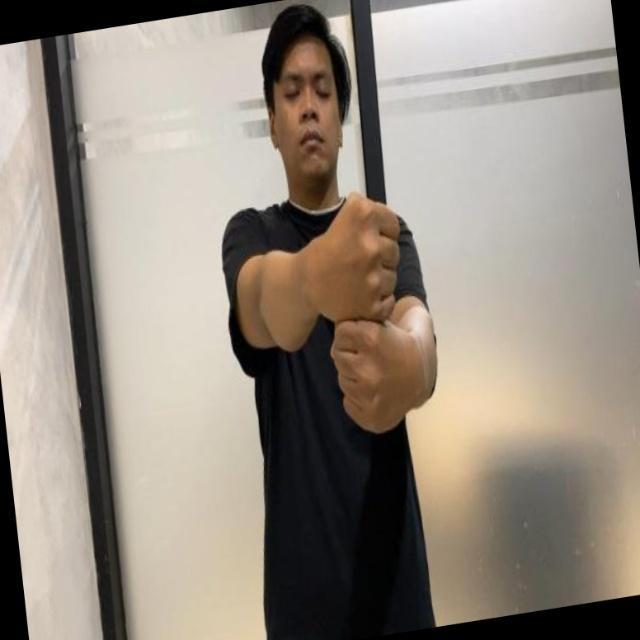G: (291, 180, 447, 447)
